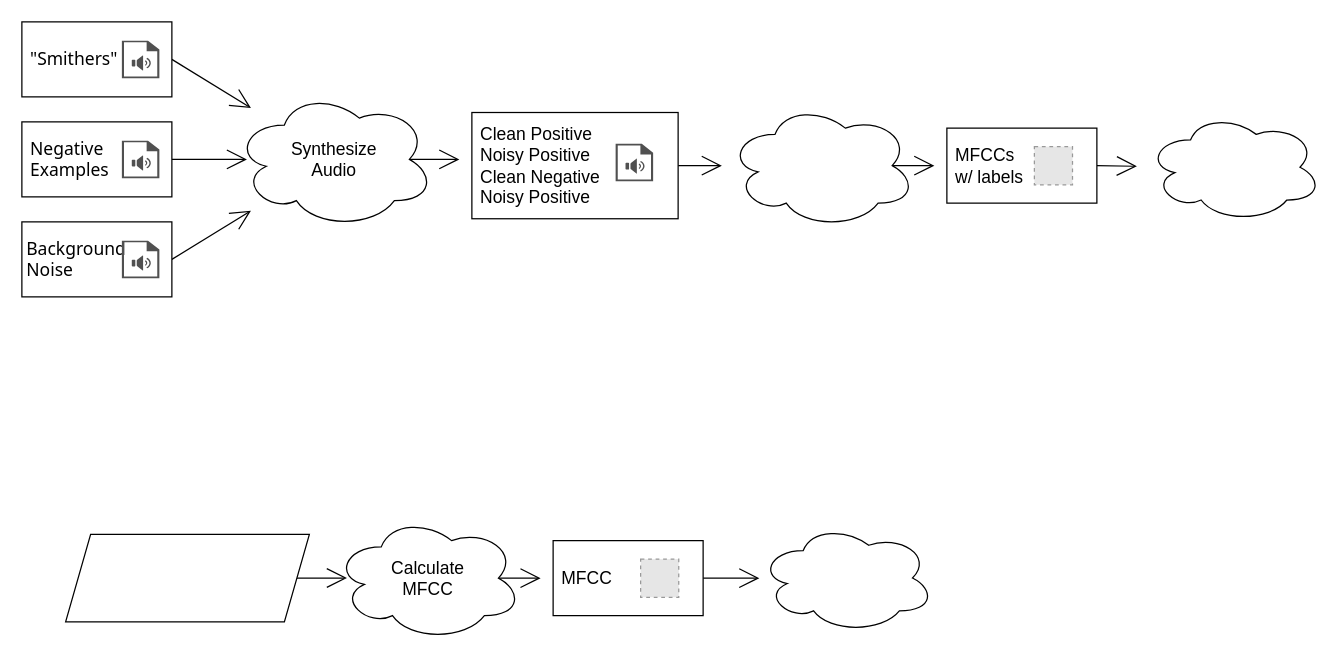
Image size: 1344x663. Some labels were removed from this diagram. Grey dashed boxes stand in for pictures. Here are the shapes that lost their labels. From the top down, the centre of each, then its label:
point (821, 165): Calculate MFCCs
point (1234, 166): Train CNN
point (186, 577): 1 second audio clip 0.5 second sliding window
point (846, 577): Make prediction w/ CNN
